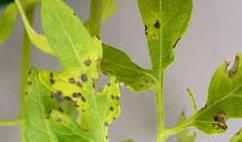Tomato leaf bacterial spot: (35, 0, 129, 142), (176, 21, 242, 141), (136, 0, 194, 83)
